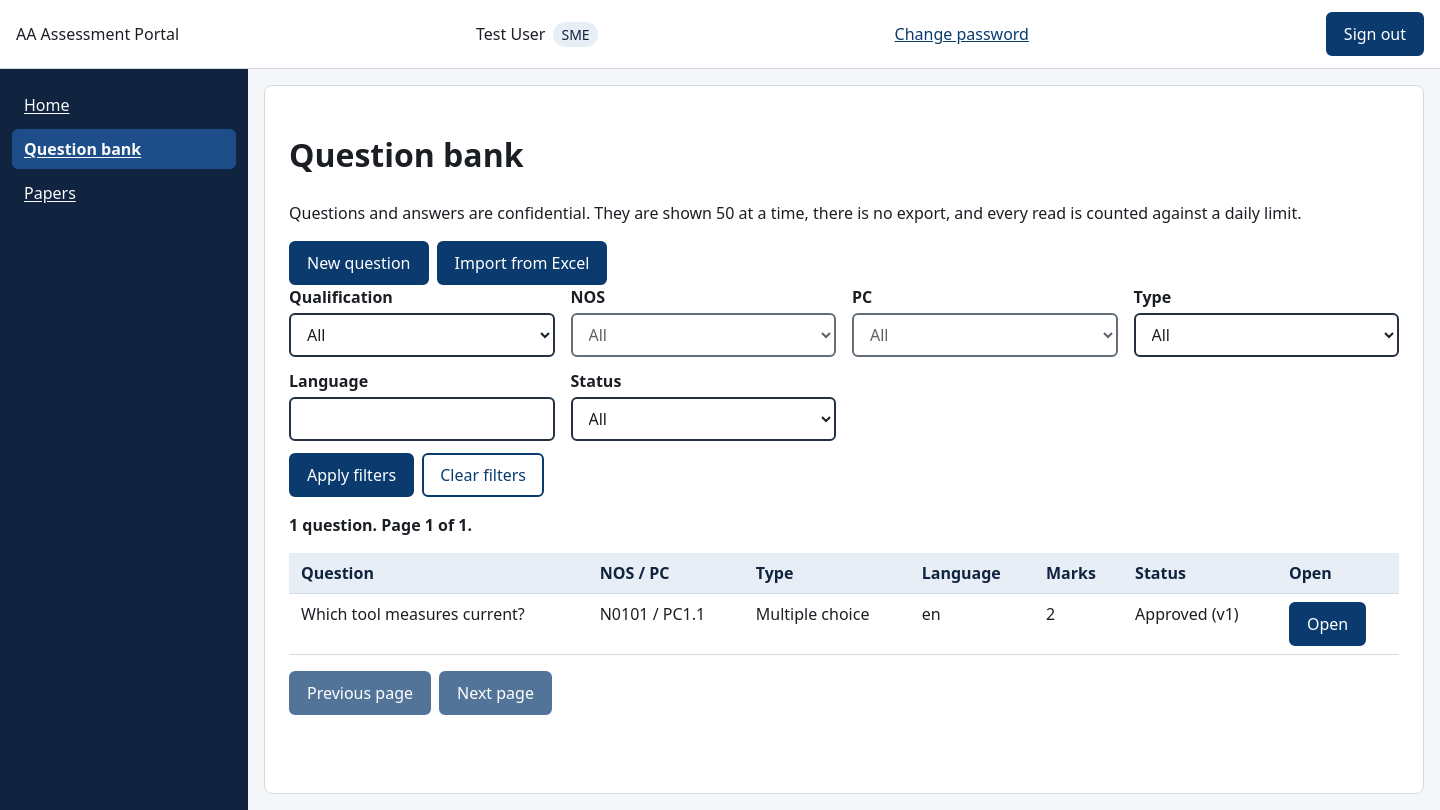
offers no submit or approve on an approved question
Click the button "Open". click: (1328, 624)
box: [1289, 602, 1366, 646]
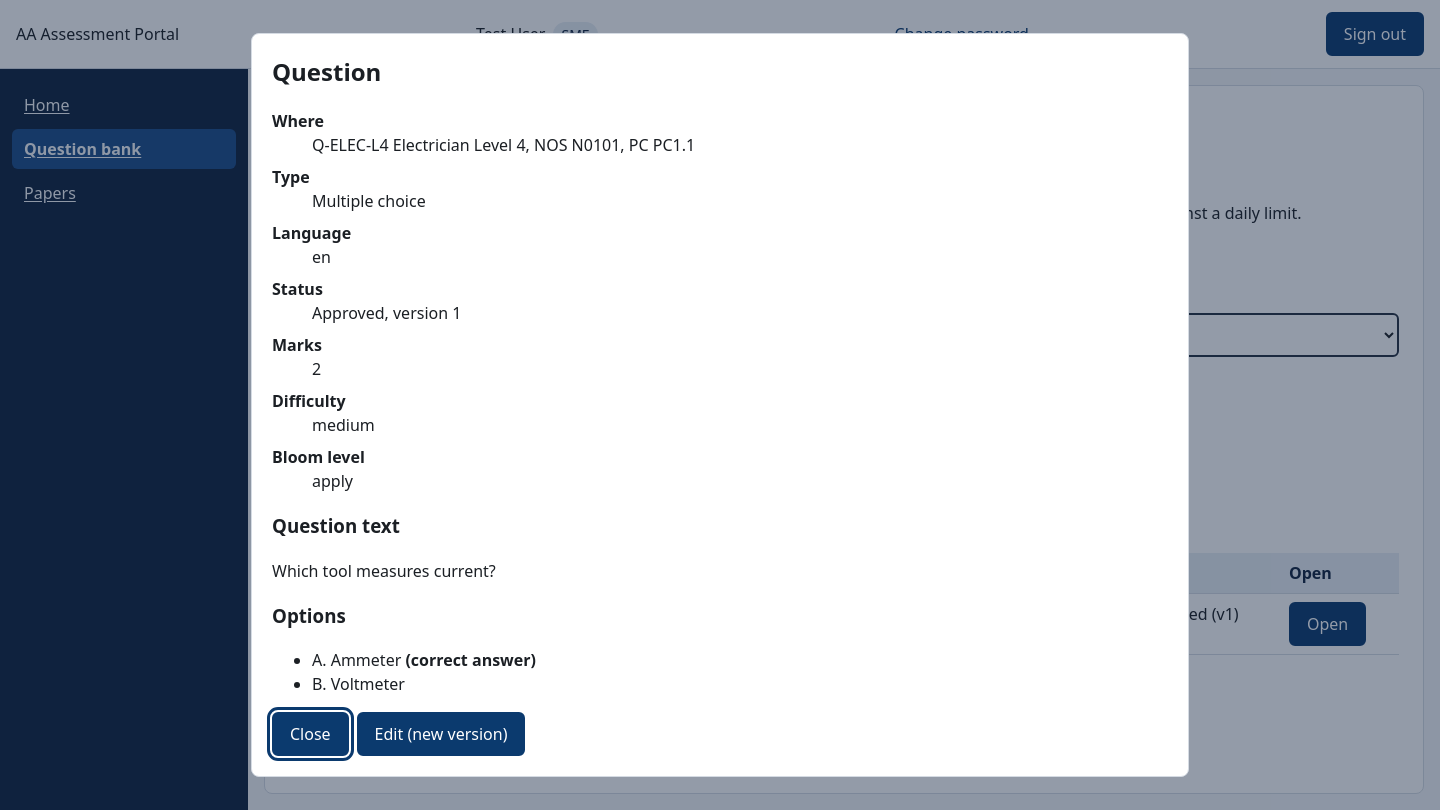
Expected: the button "Edit (new version)" is shown, [357, 712, 526, 756]
